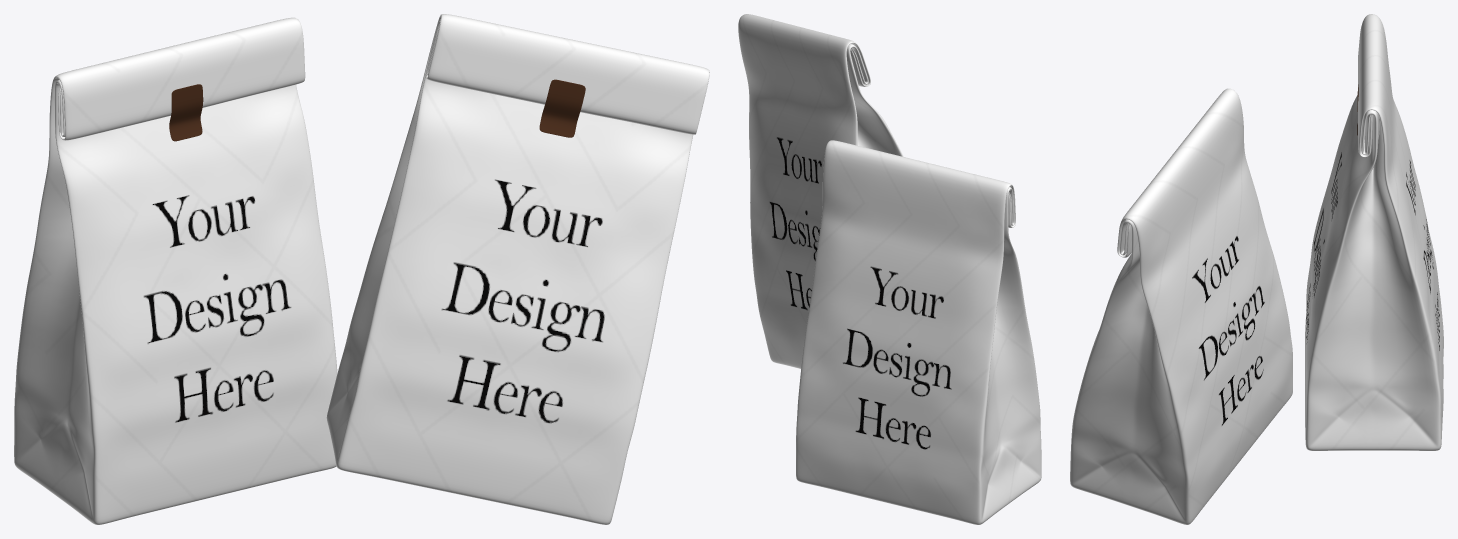
File: Kraft paper A-4.glb
3 renders of one model, left to right at view 1: azimuth 30°, elevation 25°; view 2: azimuth 150°, elevation 25°; view 3: azimuth 270°, elevation 25°, orthographic. The views are drawn at different scales.
Visible parts, largest first — view 1: _gltfNode_0.001, _gltfNode_0.002, _gltfNode_1.001, _gltfNode_1.002; view 2: _gltfNode_0.002, _gltfNode_0.001; view 3: _gltfNode_0.001, _gltfNode_0.002.
Part boxes in pixels (left/top/right/bottom): _gltfNode_0.001: left=326, top=14, right=709, bottom=524; _gltfNode_0.002: left=14, top=17, right=337, bottom=524; _gltfNode_1.001: left=539, top=79, right=585, bottom=137; _gltfNode_1.002: left=169, top=84, right=203, bottom=141; _gltfNode_0.002: left=796, top=140, right=1041, bottom=524; _gltfNode_0.001: left=738, top=14, right=903, bottom=368; _gltfNode_0.001: left=1070, top=88, right=1292, bottom=524; _gltfNode_0.002: left=1305, top=14, right=1443, bottom=450.
Bounding box in the file's own units: 26.64 × 23.78 × 20.9.
2 materials, 1 textured.
